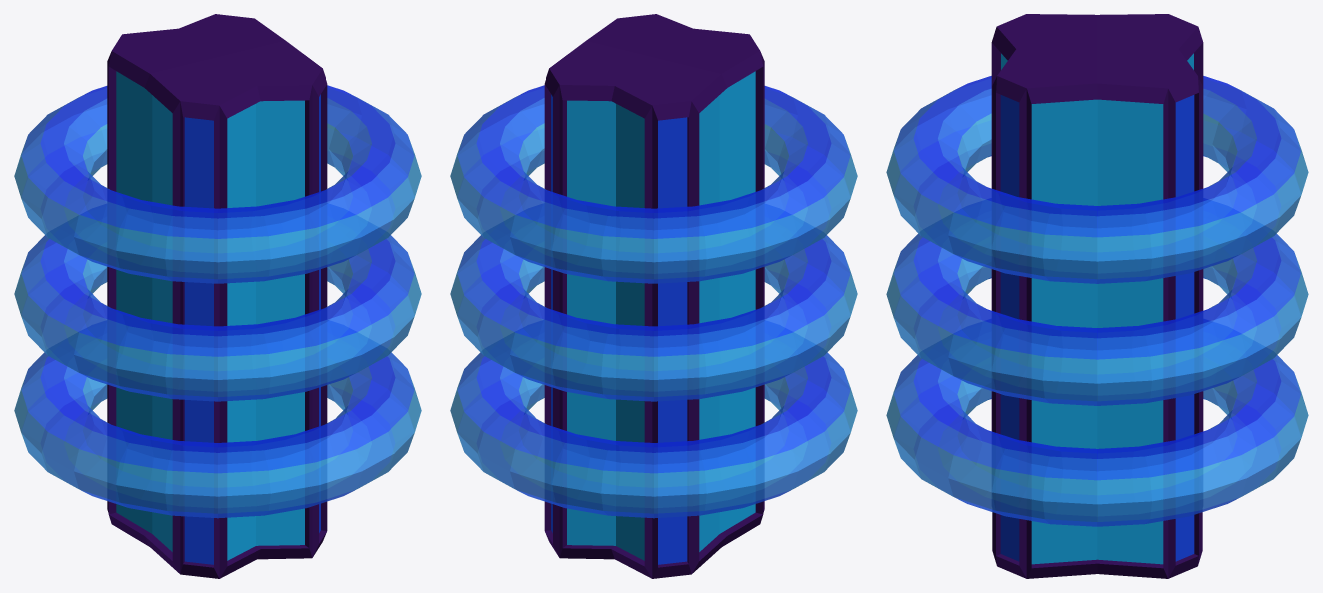
The model's file is Obstacle2.fbx.
3 renders of one model, left to right at view 1: azimuth 30°, elevation 25°; view 2: azimuth 150°, elevation 25°; view 3: azimuth 270°, elevation 25°, orthographic. The views are drawn at different scales.
Visible parts, largest first — view 1: Cylinder, Torus.003, Torus.002, Torus.001; view 2: Cylinder, Torus.003, Torus.002, Torus.001; view 3: Cylinder, Torus.003, Torus.002, Torus.001.
Boxes of the visible parts, x1,y1,x2,y2 form: Cylinder: (107, 14, 327, 578); Torus.003: (14, 85, 421, 283); Torus.002: (14, 235, 421, 401); Torus.001: (14, 352, 421, 518); Cylinder: (544, 14, 764, 578); Torus.003: (450, 85, 857, 283); Torus.002: (450, 235, 857, 401); Torus.001: (450, 352, 857, 518); Cylinder: (991, 14, 1203, 578); Torus.003: (886, 76, 1308, 283); Torus.002: (886, 233, 1308, 405); Torus.001: (886, 355, 1308, 526).
Size of the model in its own units: 156 by 201 by 156.
2 materials, 2 textured.
